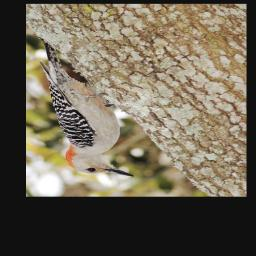Woodpecker: (31, 34, 137, 184)
